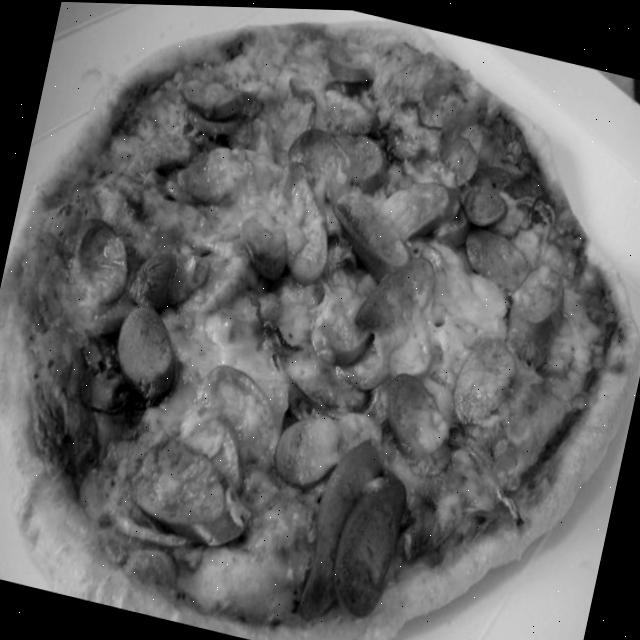汉堡快餐: (13, 0, 640, 640)
